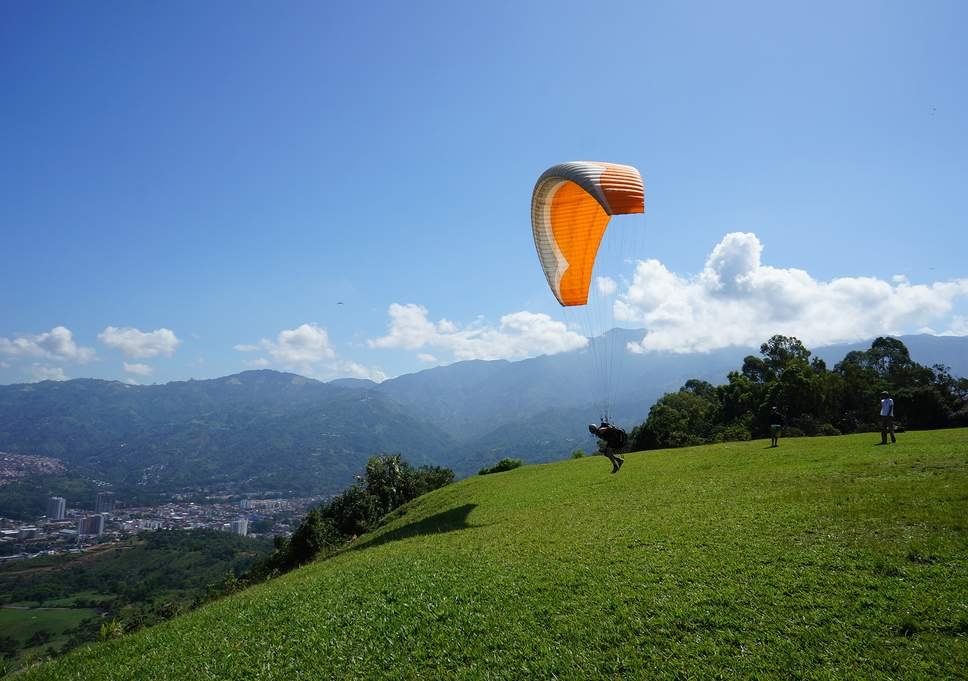Paraglider: (530, 153, 650, 313)
